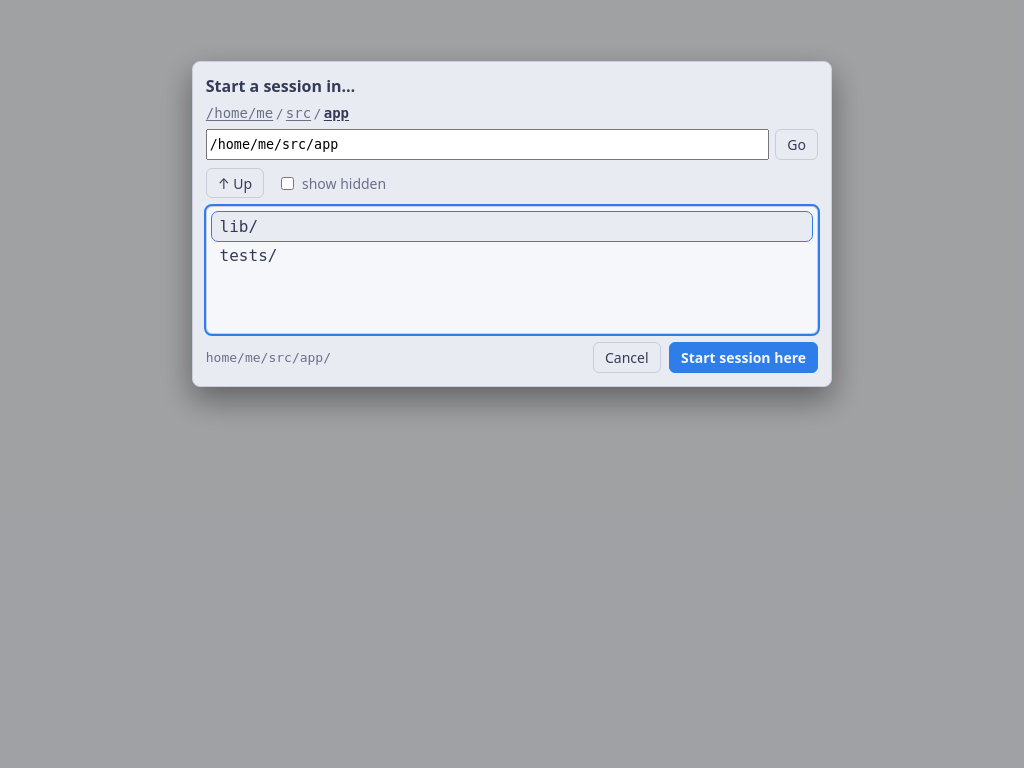
Scenario: DirectoryPicker › toggles hidden directories and takes a typed path, showing a refusal
Click the checkbox with test id "picker-hidden" at {"x": 288, "y": 183}, box [281,177,294,190]
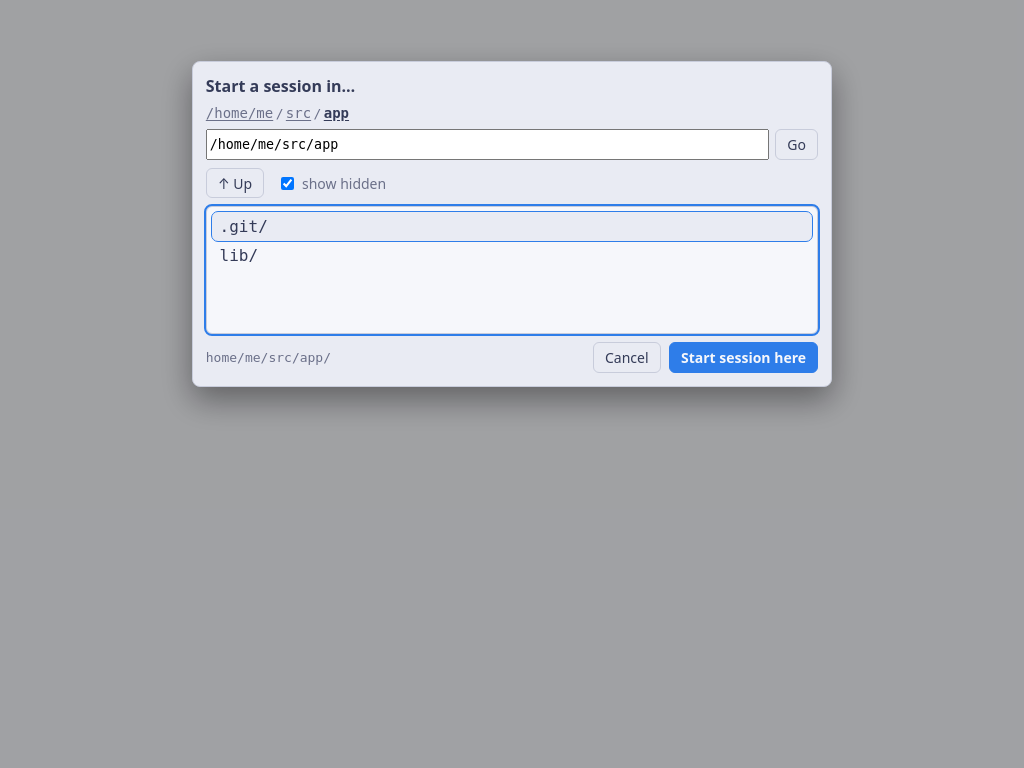
Replace the text in the field with test id "picker-path" with "/etc" at {"x": 487, "y": 144}, box [206,129,769,160]
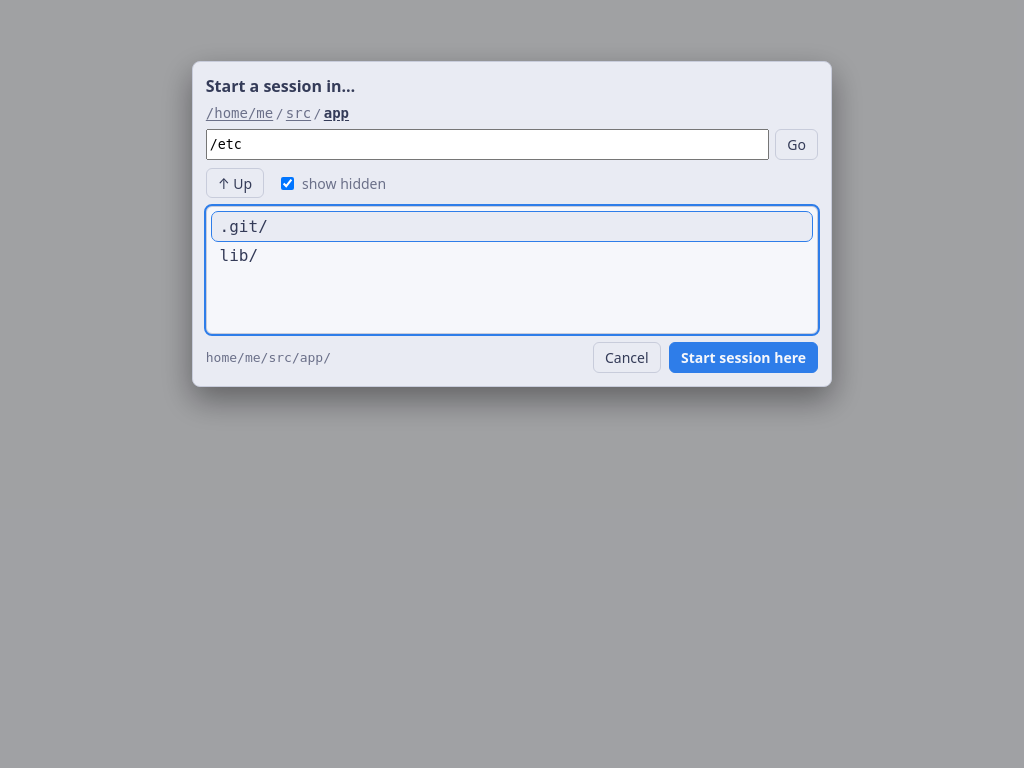
Submit the form, box [206,129,818,160]
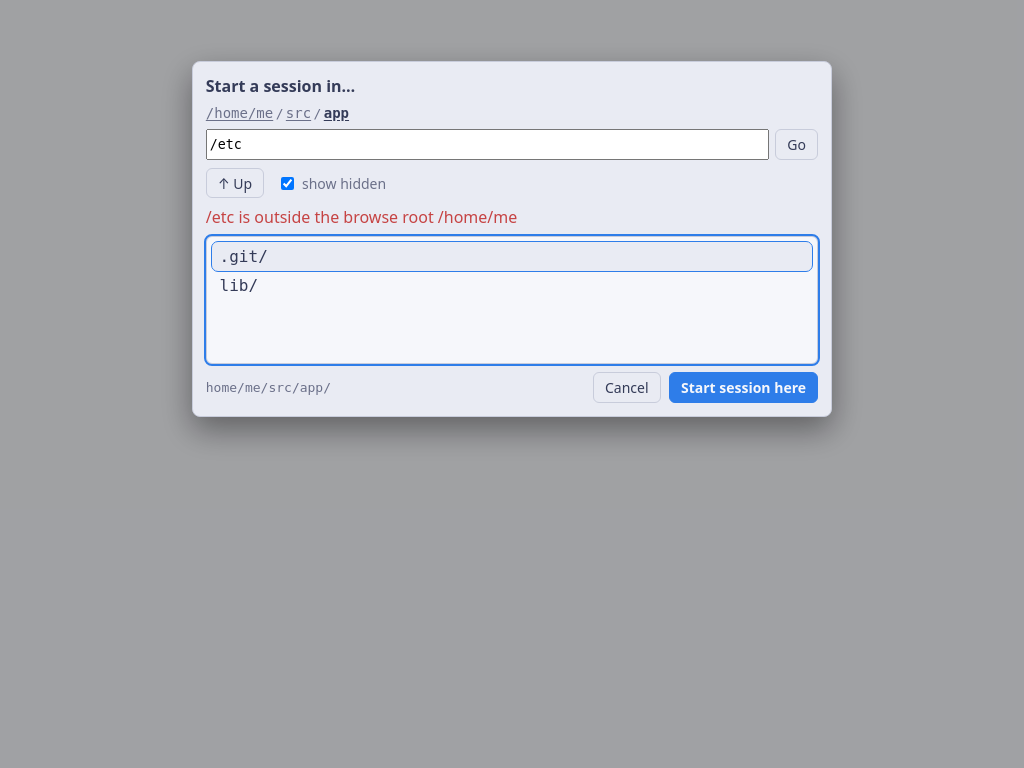
Check: the text with test id "picker-current" reads "/home/me/src/app", box [206,380,331,395]
Check: the message with test id "picker-error" shows "outside the browse root", box [206,206,517,228]
